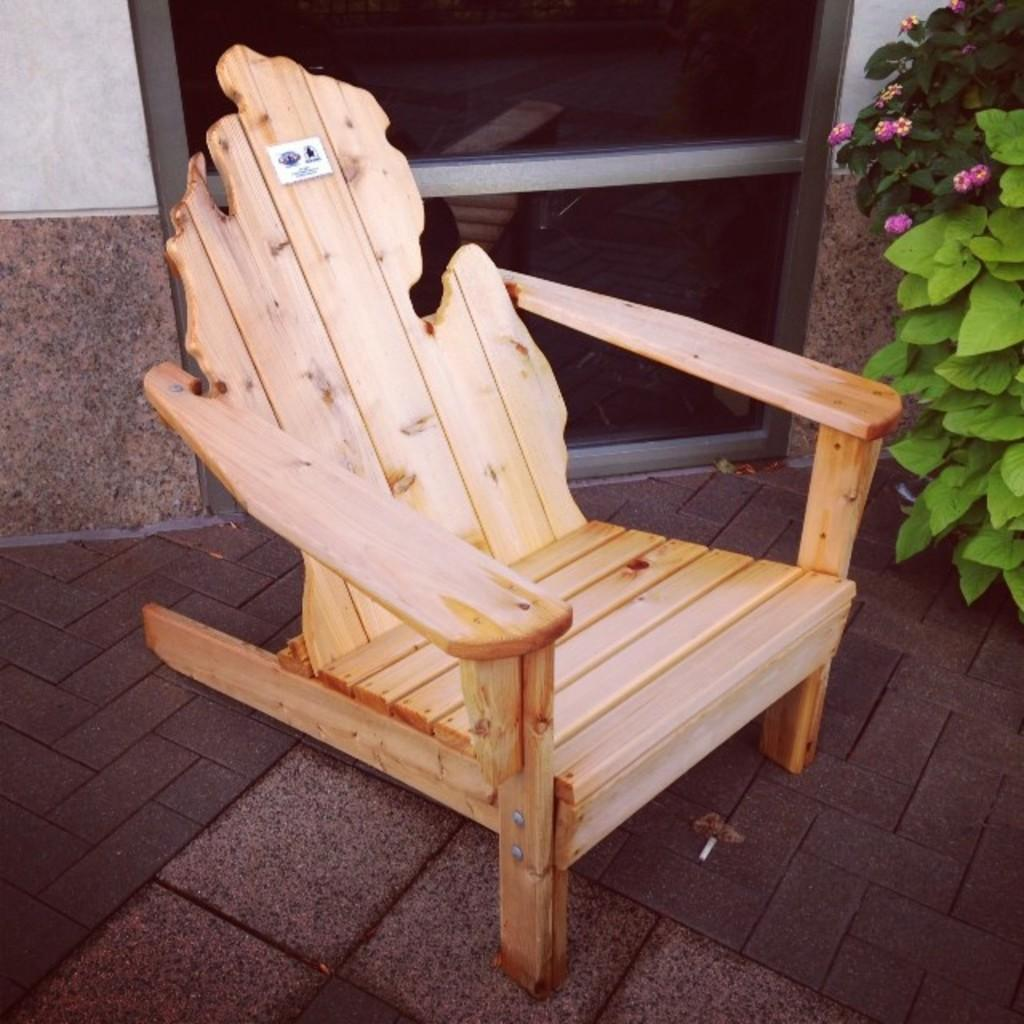Chair: (101, 80, 899, 990)
